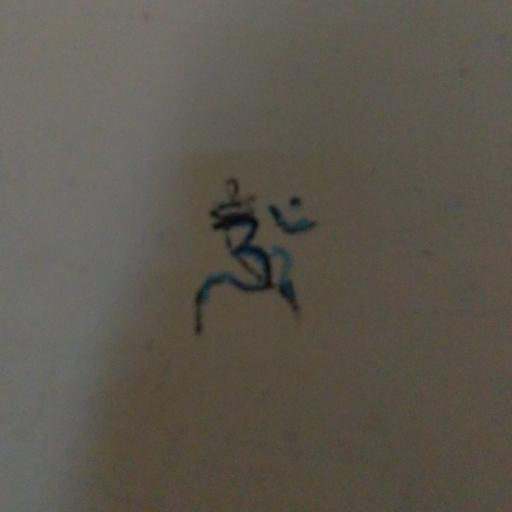stain: (122, 98, 356, 422)
